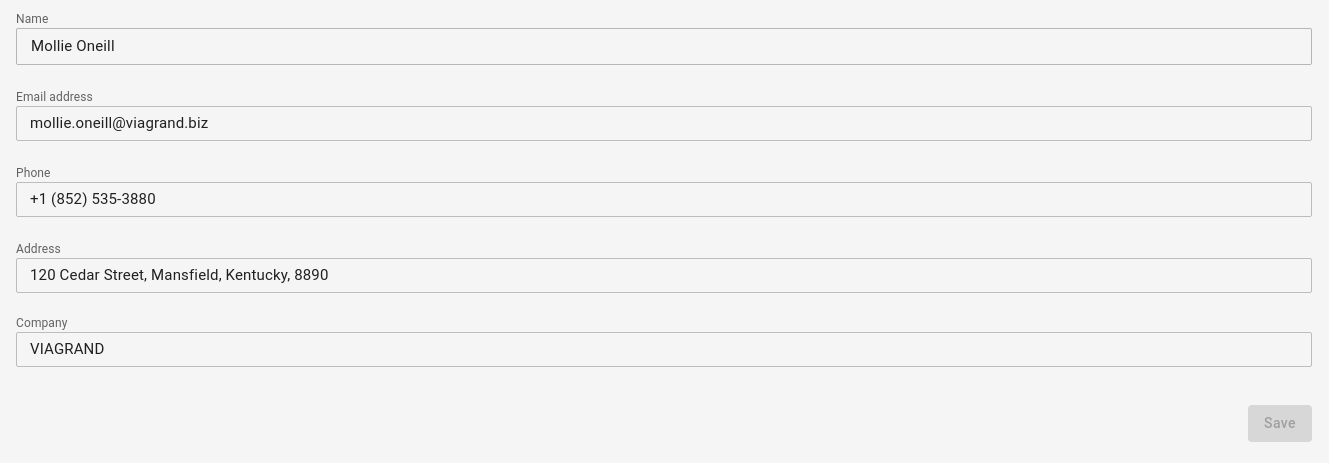
Test: Form › should check if appropriate feedback is given when name is not provided
Expected: the button with test id "save-btn" is disabled, [1248, 405, 1312, 442]
Clear the field with test id "name-field" at (664, 46), box [16, 28, 1312, 65]
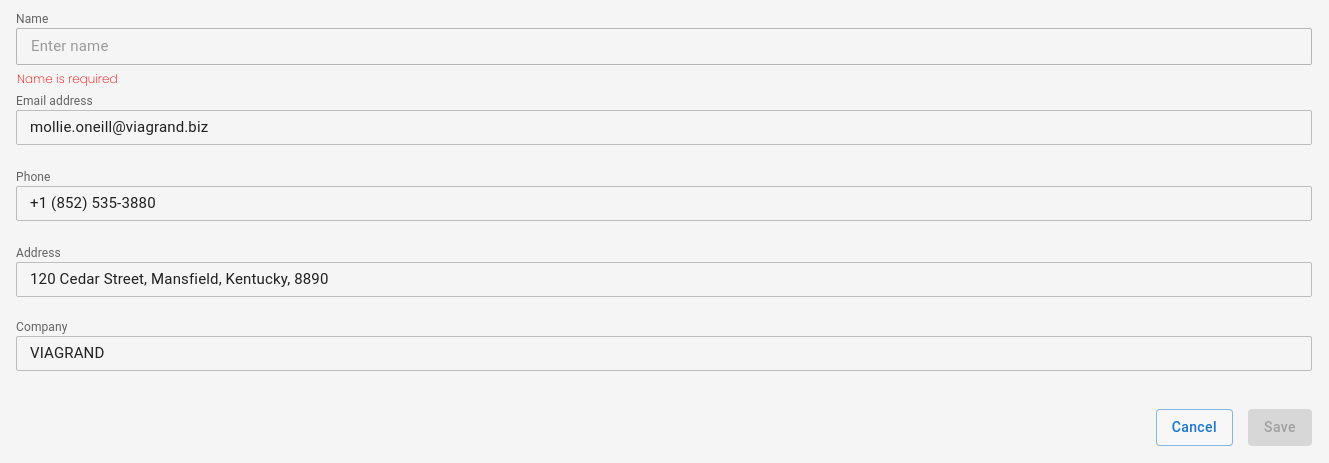
Expected: the button with test id "save-btn" is disabled, [1248, 409, 1312, 446]
Expected: the text with test id "name-msg" reads "Name is required", [17, 70, 118, 87]
Expected: the button with test id "cancel-btn" is shown, [1156, 409, 1233, 446]
